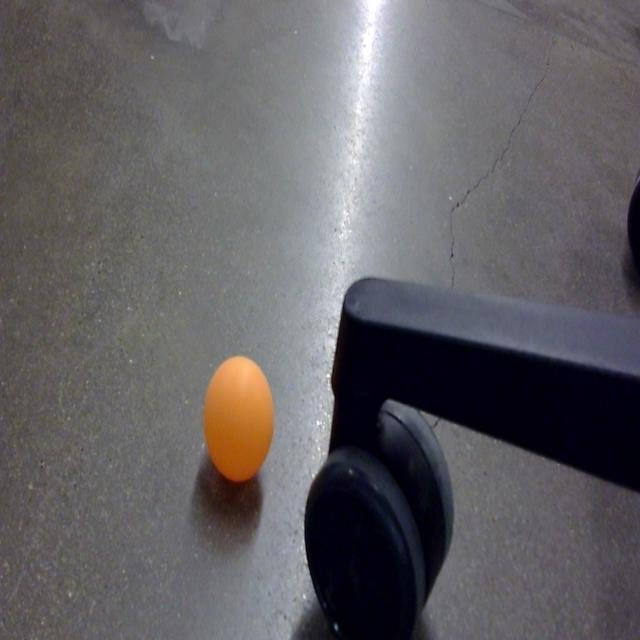ball: (201, 354, 276, 488)
